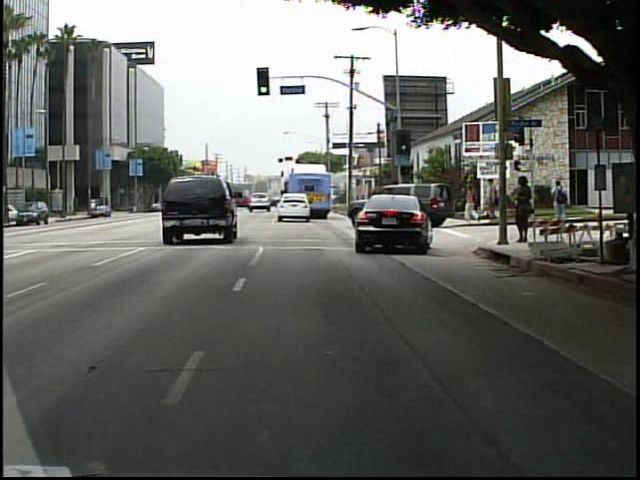person: (510, 172, 534, 250), (462, 180, 484, 228), (550, 179, 572, 221), (484, 178, 500, 223)
